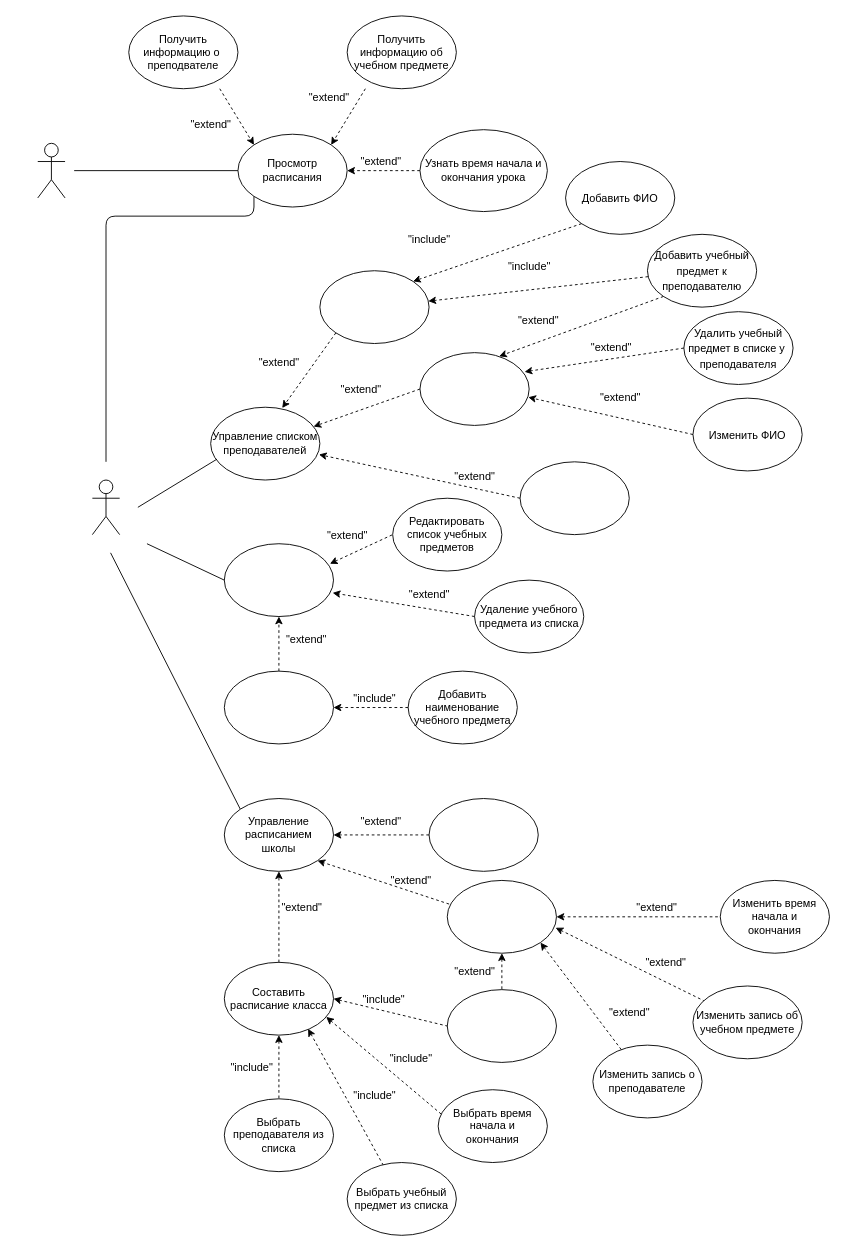
The diagram is 845 pixels wide and 1251 high, and some of its shapes have lost their labels. The shapes that lost their labels are listed below. From the top down, each one's box as (x1, y1, x2, y2) in pixels, then its label:
(37, 142, 65, 198): Пользователь
(319, 270, 429, 344): Добавление в список нового преподавателя
(419, 352, 529, 425): Редактирование списка преподавателей
(91, 479, 120, 535): Администратор
(519, 461, 629, 535): Удаление записи о преподавателе
(223, 543, 334, 617): Управление списком учебных предметов
(223, 670, 334, 744): Добавление учебного предмета в список
(428, 798, 538, 871): Удалить записи о расписании класса
(446, 880, 556, 953): Редактировать расписание класса
(446, 989, 556, 1062): Выбрать день недели
